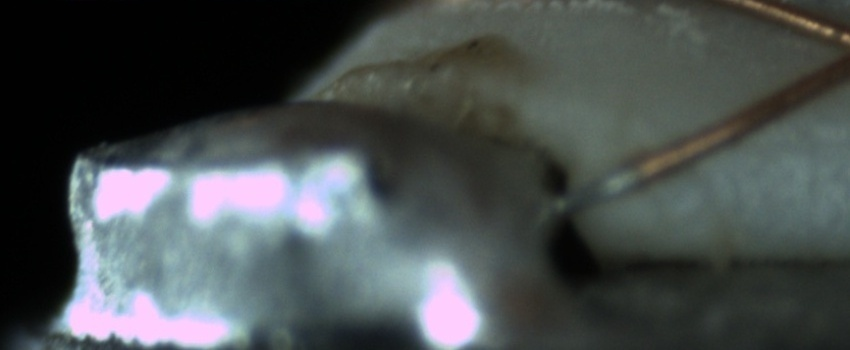CL: (805, 11, 850, 88)
DL: (752, 107, 850, 176)
TS: (555, 164, 638, 216)
TTCW: (556, 144, 676, 214)
